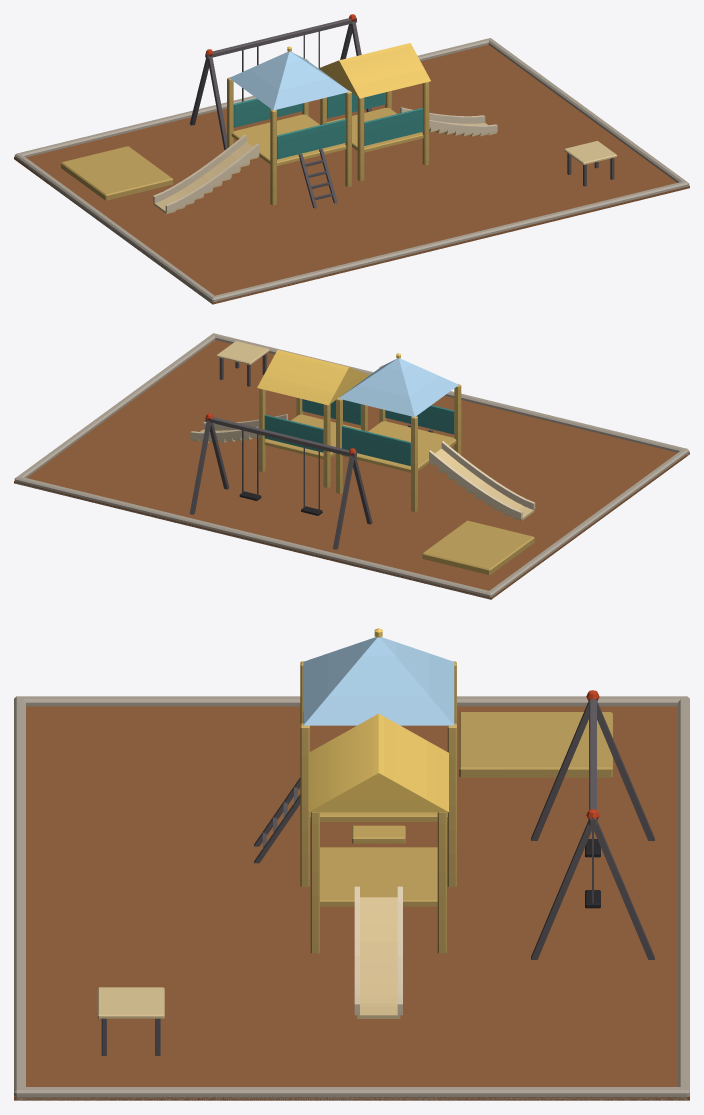
File: playground_kit.glb
3 renders of one model, top to bottom at view 1: azimuth 30°, elevation 25°; view 2: azimuth 150°, elevation 25°; view 3: azimuth 270°, elevation 25°, orthographic. The views are drawn at different scales.
Visible parts, largest first — view 1: playground_kit; view 2: playground_kit; view 3: playground_kit.
Part boxes in pixels (x1,y1,x2,y2): playground_kit: (14, 14, 689, 304); playground_kit: (14, 333, 689, 599); playground_kit: (14, 628, 689, 1100).
Size of the model in its own units: 14 by 3.78 by 10.1.
1 material, 1 textured.
